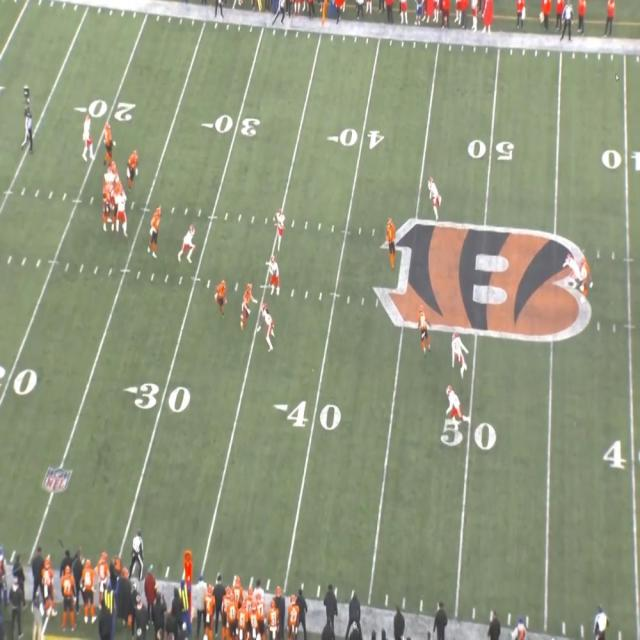db: (446, 386, 466, 430), (452, 336, 466, 374), (428, 181, 439, 223), (275, 210, 285, 252), (566, 252, 576, 282)
lb: (261, 308, 273, 347), (269, 255, 282, 286)
skill: (238, 284, 254, 328), (384, 218, 397, 267), (215, 278, 227, 314), (580, 256, 589, 302), (419, 307, 426, 351)
